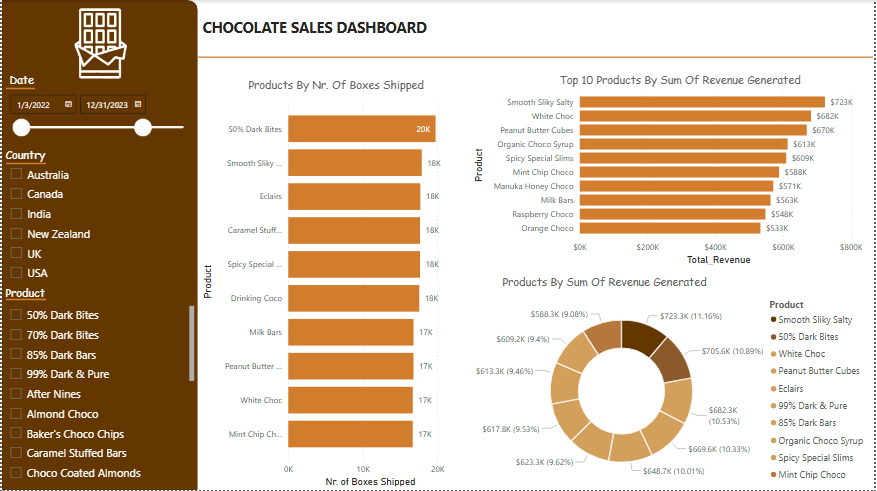

The dashboard page shown, as its layout file describes it:
{"tool":"powerbi","page":{"name":"Page 3","canvas":[1280,720],"ordinal":2},"visuals":[{"type":"donutChart","fields":{"Y":["Measure_Table.Total_Revenue"],"Category":["DataTable.Product"]},"box":[687.7,429.1,592.2,290.9],"z":0},{"type":"clusteredBarChart","fields":{"Y":["Measure_Table.Total_Revenue"],"Category":["DataTable.Product"]},"box":[687.7,120.5,592.2,273.3],"z":1000},{"type":"shape","box":[0,0,287.7,719.8],"z":2000},{"type":"shape","box":[287.7,0,992.3,167.9],"z":3000},{"type":"textbox","box":[289,20.6,747.4,49.5],"z":4000},{"type":"slicer","fields":{"Values":["calendar_table.Date"]},"box":[0,129.3,288,101.4],"z":5000},{"type":"slicer","fields":{"Values":["DataTable.Country"]},"box":[0,236.6,288,186.6],"z":6000},{"type":"slicer","fields":{"Values":["DataTable.Product"]},"box":[0,443.2,287.7,276.6],"z":7000},{"type":"clusteredBarChart","fields":{"Y":["Sum(DataTable.Boxes Shipped)"],"Category":["DataTable.Product"]},"box":[289.5,136.7,387.9,583.3],"z":8000},{"type":"textbox","box":[357.1,107.3,283.6,73.5],"z":9000},{"type":"textbox","box":[814,99.9,398.2,73.5],"z":10000},{"type":"textbox","box":[730.3,396.7,333.6,73.5],"z":11000},{"type":"textbox","box":[5.9,99.9,83.8,39.7],"z":12000},{"type":"textbox","box":[0,210.1,83.8,39.7],"z":13000},{"type":"textbox","box":[0,412.9,83.8,39.7],"z":14000},{"type":"shape","box":[5.9,210.1,58.8,60.2],"z":15000},{"type":"shape","box":[5.9,410,58.8,60.2],"z":16000},{"type":"shape","box":[5.9,99.9,42.6,60.2],"z":17000},{"type":"image","box":[0,8.8,288,110.2],"z":17001}]}

Visuals, with their boxes in screenshot pixels (x1, y1, x2, y2), scaled from the page's 1280x720 canvas onto the 877x491 screenshot:
donutChart - Measure_Table.Total_Revenue x DataTable.Product: bbox=[471, 293, 876, 490]
clusteredBarChart - Measure_Table.Total_Revenue x DataTable.Product: bbox=[471, 82, 876, 269]
shape: bbox=[0, 0, 197, 490]
shape: bbox=[197, 0, 876, 114]
textbox: bbox=[198, 14, 710, 48]
slicer - calendar_table.Date: bbox=[0, 88, 197, 157]
slicer - DataTable.Country: bbox=[0, 161, 197, 289]
slicer - DataTable.Product: bbox=[0, 302, 197, 490]
clusteredBarChart - Sum(DataTable.Boxes Shipped) x DataTable.Product: bbox=[198, 93, 464, 490]
textbox: bbox=[245, 73, 439, 123]
textbox: bbox=[558, 68, 831, 118]
textbox: bbox=[500, 271, 729, 321]
textbox: bbox=[4, 68, 61, 95]
textbox: bbox=[0, 143, 57, 170]
textbox: bbox=[0, 282, 57, 309]
shape: bbox=[4, 143, 44, 184]
shape: bbox=[4, 280, 44, 321]
shape: bbox=[4, 68, 33, 109]
image: bbox=[0, 6, 197, 81]
